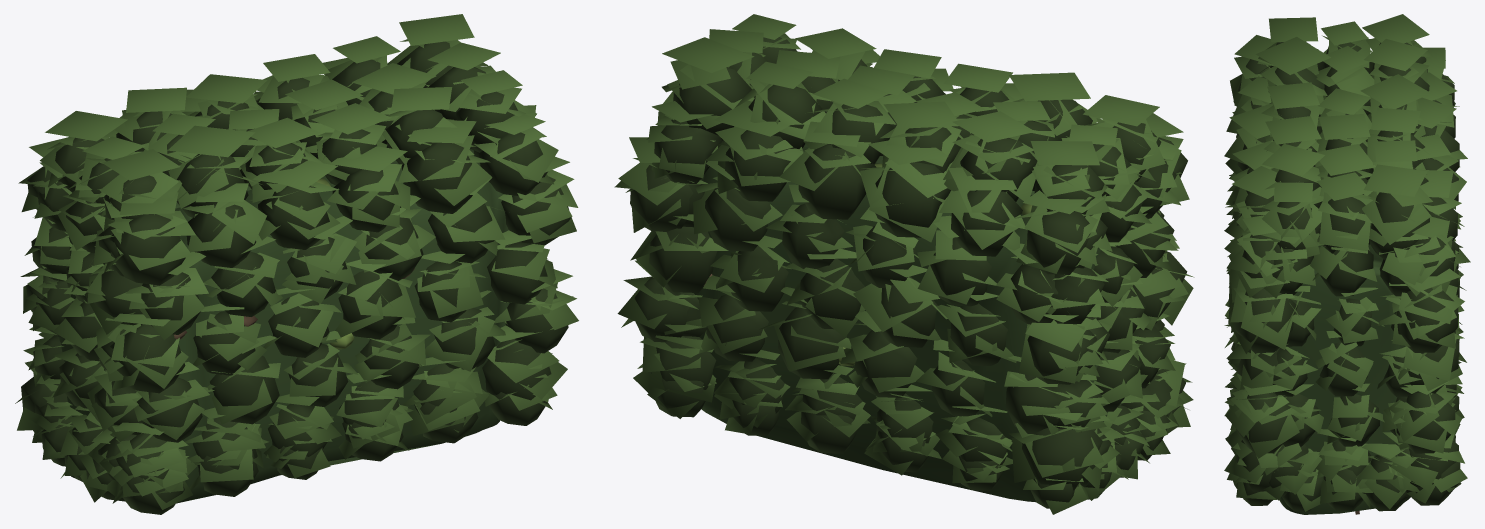
The model's file is hedgerow.glb.
3 renders of one model, left to right at view 1: azimuth 30°, elevation 25°; view 2: azimuth 150°, elevation 25°; view 3: azimuth 270°, elevation 25°, orthographic. The views are drawn at different scales.
Visible parts, largest first — view 1: hedgerow; view 2: hedgerow; view 3: hedgerow.
Boxes of the visible parts, left/top/right/bottom form: hedgerow: left=15, top=14, right=578, bottom=514; hedgerow: left=614, top=14, right=1194, bottom=514; hedgerow: left=1224, top=14, right=1470, bottom=514.
Bounding box in the file's own units: 1.95 × 1.45 × 0.95.
